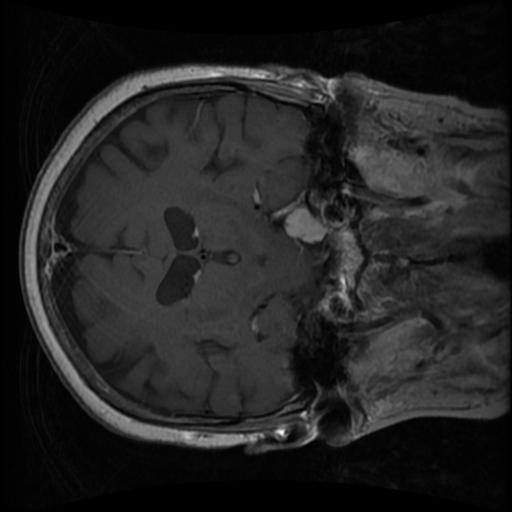meningioma: (283, 206, 325, 243)
